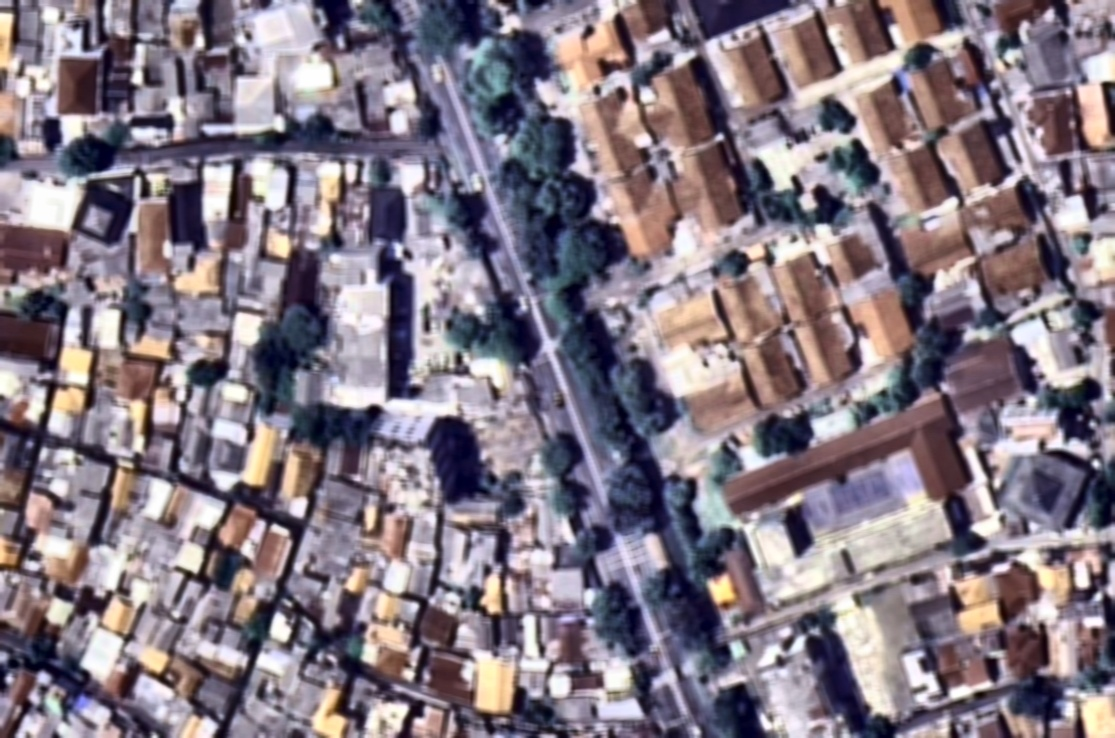building: (716, 394, 958, 520), (751, 496, 957, 611), (724, 607, 866, 738), (356, 394, 466, 527), (12, 438, 118, 565), (313, 244, 389, 404), (645, 270, 737, 393), (295, 47, 415, 134), (568, 81, 663, 184), (990, 439, 1092, 533), (974, 229, 1071, 317), (660, 140, 746, 239), (602, 165, 686, 260), (635, 60, 719, 154), (927, 112, 1015, 201), (816, 202, 895, 301), (0, 669, 113, 737), (784, 301, 867, 391), (936, 335, 1028, 415), (845, 70, 927, 156), (954, 178, 1045, 255), (892, 199, 978, 279), (42, 451, 112, 548), (764, 238, 842, 325), (712, 255, 785, 345), (549, 13, 633, 91), (913, 259, 994, 337), (675, 358, 757, 434), (845, 281, 920, 364), (227, 0, 324, 64), (904, 51, 978, 132), (233, 52, 307, 131), (1013, 85, 1087, 163), (815, 0, 893, 73), (50, 15, 103, 120), (873, 141, 945, 218), (718, 30, 786, 111), (897, 563, 964, 645), (185, 612, 262, 683), (117, 525, 182, 609), (772, 12, 839, 89), (987, 399, 1074, 458), (905, 426, 973, 500), (737, 331, 801, 409), (67, 177, 138, 247), (76, 380, 144, 453), (354, 616, 427, 683), (687, 0, 798, 42), (0, 218, 67, 287), (241, 522, 296, 600), (123, 605, 186, 673), (288, 81, 360, 135), (992, 555, 1051, 619), (876, 0, 947, 50), (1018, 28, 1077, 88), (185, 579, 241, 641), (0, 356, 48, 427), (51, 605, 101, 673), (2, 572, 54, 637), (897, 632, 945, 702), (0, 370, 53, 433), (310, 572, 359, 640), (225, 71, 281, 130), (416, 648, 477, 702), (311, 472, 370, 527), (718, 545, 765, 612), (240, 419, 282, 492), (170, 411, 215, 479), (1040, 318, 1092, 376), (77, 620, 128, 679), (1074, 76, 1115, 149), (223, 692, 288, 738), (277, 440, 323, 504), (163, 174, 203, 247), (212, 381, 260, 441), (356, 688, 413, 738), (0, 427, 36, 506), (279, 251, 321, 318), (236, 255, 285, 312), (0, 310, 58, 358), (178, 294, 237, 341), (212, 499, 262, 554), (37, 532, 87, 587), (225, 311, 263, 383), (122, 671, 175, 722), (186, 489, 229, 551), (749, 513, 797, 568), (0, 665, 37, 736), (987, 0, 1052, 40), (130, 278, 180, 330), (78, 540, 127, 592), (159, 0, 208, 52), (1001, 623, 1048, 677), (472, 654, 516, 711), (134, 198, 167, 274), (452, 529, 497, 584), (620, 0, 677, 43), (26, 181, 78, 228), (191, 668, 242, 715), (131, 470, 174, 525), (348, 39, 403, 82), (306, 529, 356, 576), (353, 75, 391, 134), (157, 653, 205, 699), (385, 79, 423, 137), (158, 479, 198, 534), (930, 638, 966, 699), (271, 645, 311, 699), (225, 162, 255, 234), (367, 183, 404, 241), (60, 696, 111, 738), (128, 88, 169, 140), (954, 598, 1007, 638), (281, 676, 327, 722), (452, 373, 499, 418), (985, 701, 1042, 738), (340, 10, 390, 52), (165, 253, 218, 292), (203, 155, 237, 215), (109, 510, 153, 555), (204, 433, 247, 478), (954, 648, 996, 694), (415, 605, 461, 647), (116, 357, 158, 403), (951, 567, 998, 608), (337, 183, 368, 245), (283, 567, 327, 610), (124, 326, 178, 361), (15, 489, 56, 534), (262, 200, 292, 261), (1064, 547, 1105, 591), (1038, 594, 1102, 622), (443, 497, 500, 528), (962, 404, 1001, 449), (553, 620, 590, 667), (39, 674, 80, 716), (411, 368, 457, 405), (288, 199, 321, 250), (1074, 695, 1114, 737), (173, 333, 226, 364), (1050, 193, 1091, 233), (98, 594, 139, 634), (547, 566, 590, 604), (1039, 556, 1072, 605), (376, 510, 409, 559), (148, 610, 186, 652), (488, 606, 526, 648), (184, 374, 221, 417), (39, 593, 74, 638), (397, 558, 435, 599), (78, 250, 131, 279), (341, 676, 380, 715), (404, 702, 446, 738), (323, 438, 362, 476), (171, 539, 209, 578), (140, 431, 177, 471), (106, 464, 138, 510), (199, 48, 230, 95), (591, 691, 643, 719), (264, 604, 300, 644), (262, 159, 291, 208), (409, 516, 441, 559), (178, 707, 222, 738), (154, 566, 186, 608), (72, 584, 107, 622), (49, 380, 88, 414), (207, 0, 234, 49), (704, 570, 734, 614), (294, 157, 322, 204), (292, 367, 324, 408), (129, 1, 161, 42), (0, 624, 36, 660), (148, 397, 181, 436), (155, 363, 188, 402), (1072, 618, 1112, 650), (1083, 150, 1114, 191), (136, 643, 172, 678), (228, 591, 261, 629), (550, 669, 600, 694), (0, 508, 22, 564), (130, 41, 159, 83), (517, 656, 549, 694), (59, 272, 91, 310), (553, 694, 596, 722), (534, 498, 561, 542), (507, 513, 540, 549), (499, 362, 530, 400), (158, 55, 184, 100), (12, 4, 42, 43), (355, 581, 381, 626), (104, 66, 128, 114), (292, 58, 332, 86), (342, 560, 372, 597), (256, 401, 293, 431), (599, 663, 636, 692), (505, 571, 530, 613), (57, 342, 93, 371), (98, 306, 121, 350), (0, 91, 21, 139), (192, 88, 219, 125), (480, 574, 504, 615), (100, 0, 128, 35), (406, 194, 431, 233), (317, 159, 341, 199), (253, 648, 287, 676), (382, 559, 409, 594), (391, 595, 420, 627), (521, 613, 541, 658), (278, 492, 310, 519), (371, 589, 399, 619), (321, 195, 339, 241), (0, 571, 18, 617), (331, 149, 421, 158), (46, 407, 74, 435), (11, 39, 40, 66), (102, 38, 132, 64), (222, 258, 241, 297), (131, 170, 174, 186), (1044, 718, 1080, 737), (974, 716, 1007, 736), (0, 12, 12, 67), (538, 614, 558, 647), (1059, 638, 1078, 672), (225, 218, 245, 249), (232, 321, 259, 343), (1076, 641, 1097, 668), (527, 561, 552, 582), (368, 558, 387, 585), (236, 344, 254, 372), (467, 718, 493, 737), (17, 139, 46, 155), (235, 75, 263, 91), (981, 631, 1001, 653), (35, 0, 75, 11), (225, 236, 246, 250), (231, 312, 246, 323), (181, 92, 193, 105), (248, 217, 259, 230), (161, 79, 173, 90), (168, 99, 177, 112), (320, 171, 339, 177), (71, 280, 85, 288)
tree: (548, 318, 643, 464), (634, 560, 719, 659), (527, 213, 622, 294), (606, 349, 686, 445), (890, 316, 964, 394), (483, 147, 552, 222), (504, 105, 571, 181), (455, 32, 529, 99), (851, 365, 919, 435), (270, 293, 338, 361), (406, 0, 479, 63), (599, 459, 655, 540), (820, 134, 885, 198), (746, 409, 823, 462), (588, 583, 641, 657), (477, 299, 534, 363), (679, 520, 733, 587), (421, 178, 482, 237), (660, 476, 703, 551), (1001, 671, 1061, 724), (533, 431, 586, 485), (536, 172, 589, 225), (516, 214, 557, 279), (1070, 645, 1115, 702), (52, 130, 104, 179), (545, 473, 595, 522), (710, 684, 756, 735), (250, 319, 294, 368), (318, 406, 372, 444), (708, 442, 748, 489), (691, 642, 734, 685), (469, 97, 512, 139), (1086, 464, 1114, 526), (1040, 376, 1094, 408), (571, 516, 612, 558), (443, 309, 484, 350), (355, 0, 399, 38), (945, 523, 986, 562), (803, 196, 849, 230), (892, 264, 928, 306), (774, 186, 807, 229), (9, 283, 48, 318), (292, 111, 337, 141), (471, 0, 508, 36), (291, 405, 325, 441), (543, 289, 576, 326), (815, 98, 852, 131), (499, 489, 529, 520), (97, 118, 128, 148), (1065, 300, 1098, 328), (124, 280, 147, 320), (743, 159, 770, 193), (244, 607, 271, 641), (458, 233, 487, 264), (860, 712, 894, 737), (365, 159, 394, 188), (272, 363, 294, 401), (188, 361, 220, 387), (900, 43, 933, 68), (257, 367, 274, 413), (254, 125, 287, 148), (44, 295, 70, 324), (218, 552, 240, 586), (989, 31, 1020, 55), (341, 630, 365, 661), (477, 474, 520, 489), (715, 254, 746, 274), (418, 106, 436, 138), (975, 307, 1000, 330), (757, 194, 780, 216), (622, 255, 644, 277), (1068, 234, 1089, 257), (319, 233, 342, 254), (303, 635, 324, 655), (44, 280, 66, 299), (632, 286, 651, 308), (461, 587, 479, 607), (1099, 401, 1115, 423), (513, 0, 534, 16), (435, 154, 452, 172), (673, 399, 688, 418)
